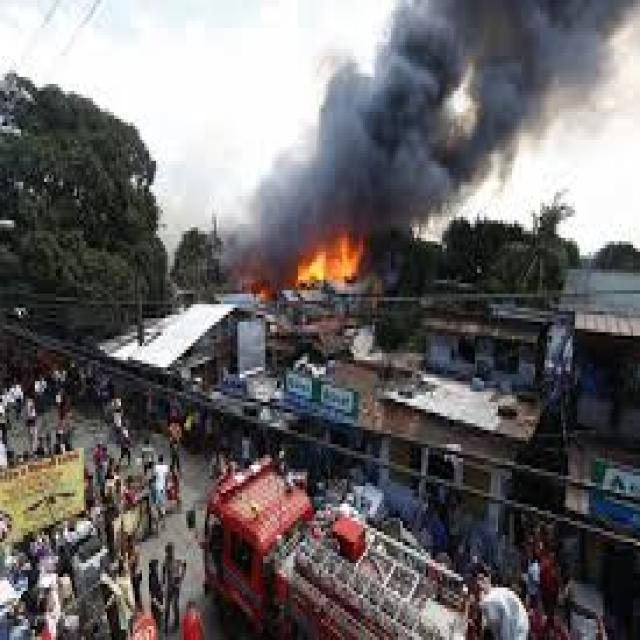Fire: (293, 239, 378, 302)
Smoke: (332, 0, 558, 206)
